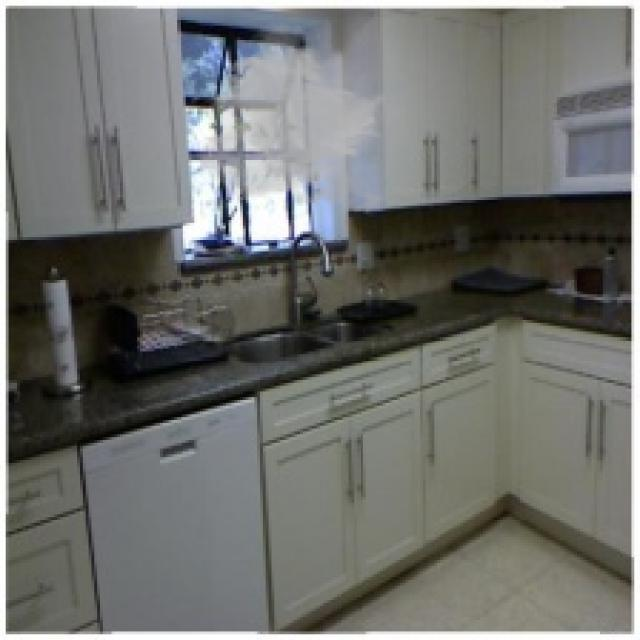Smoke: (194, 17, 406, 220)
